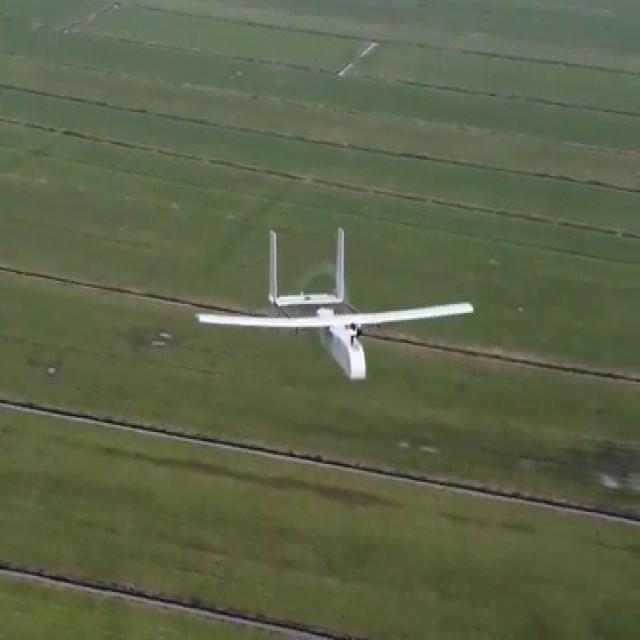iha: (194, 221, 476, 396)
